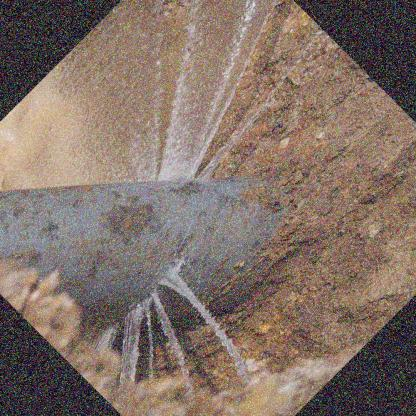burst: (88, 261, 209, 349), (120, 147, 227, 207)
